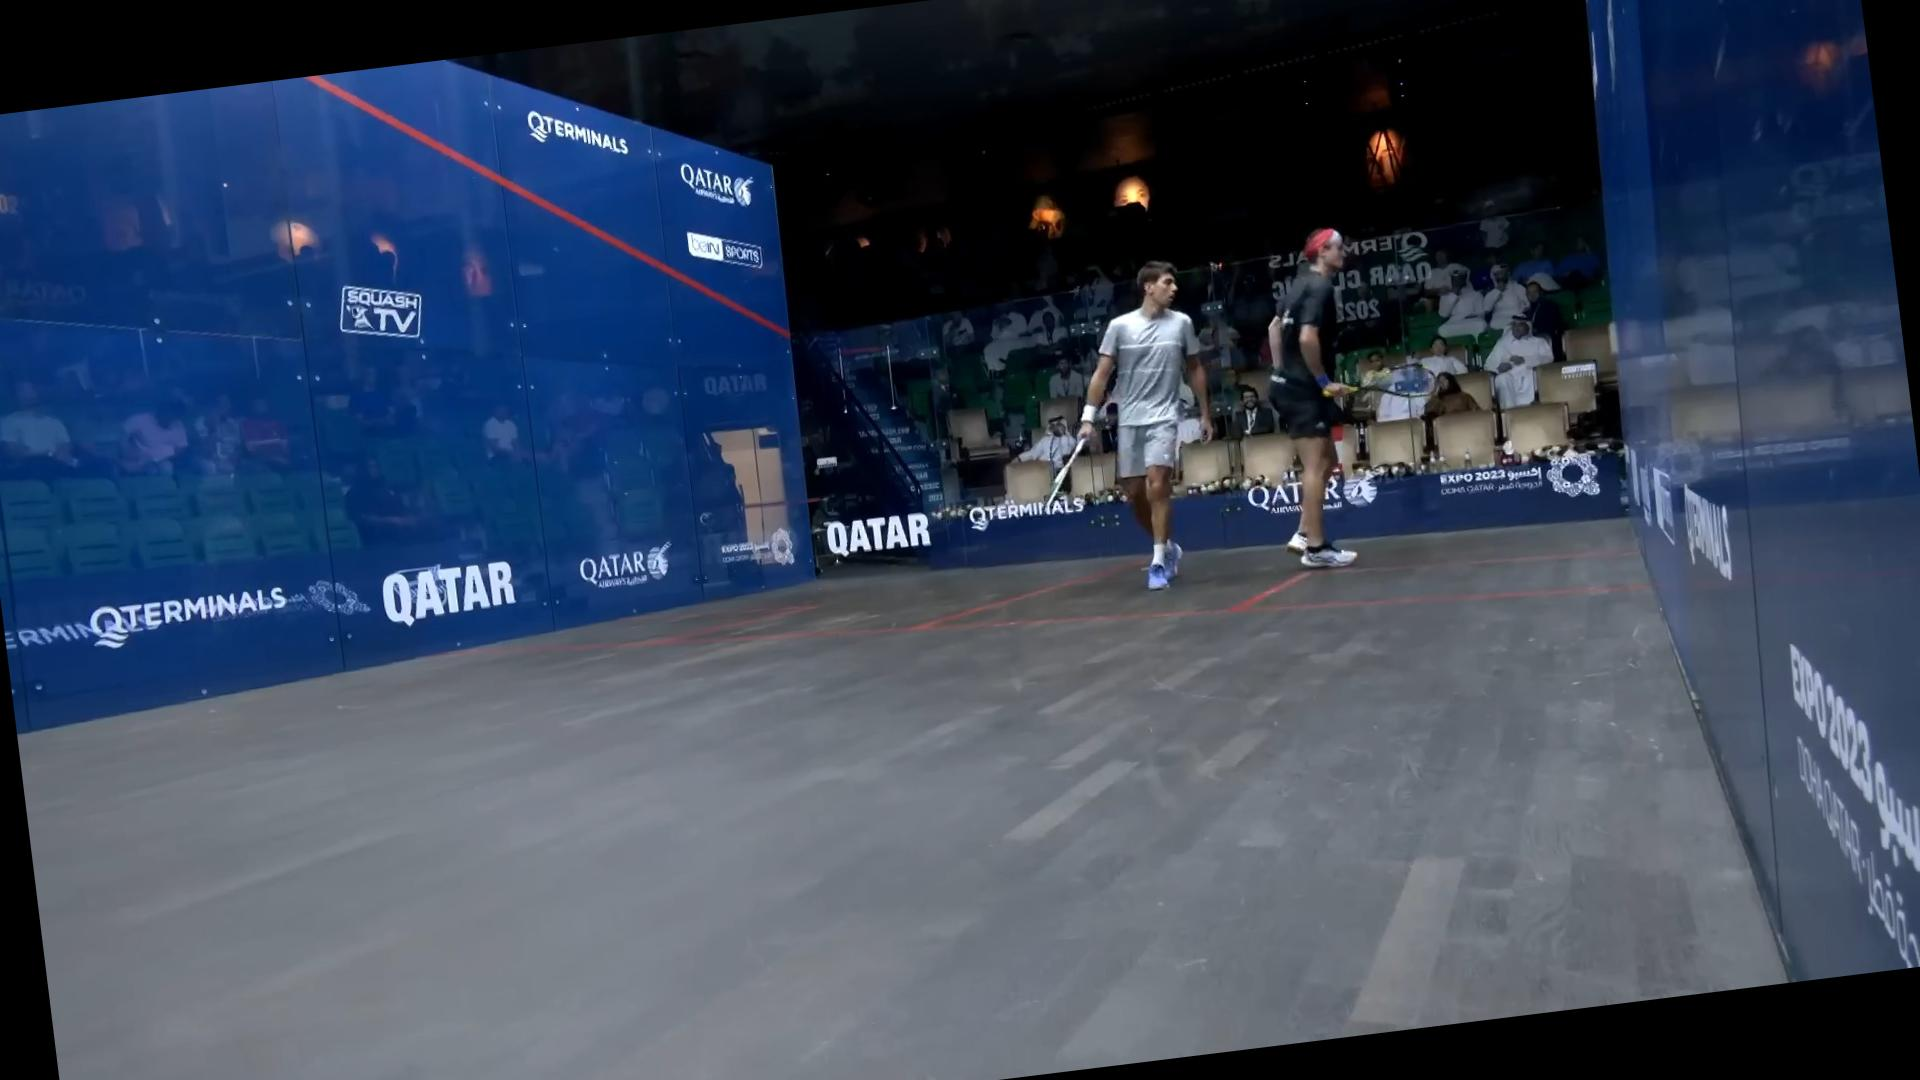Racket: (1349, 355, 1445, 407)
